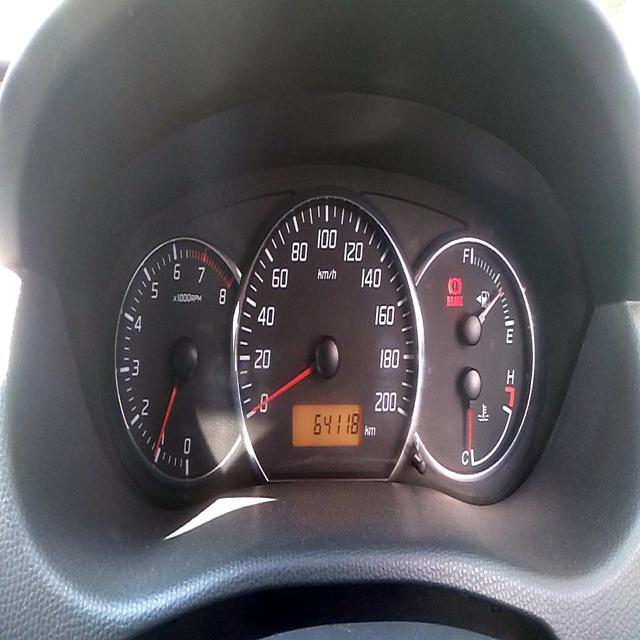odometer: (312, 404, 362, 438)
